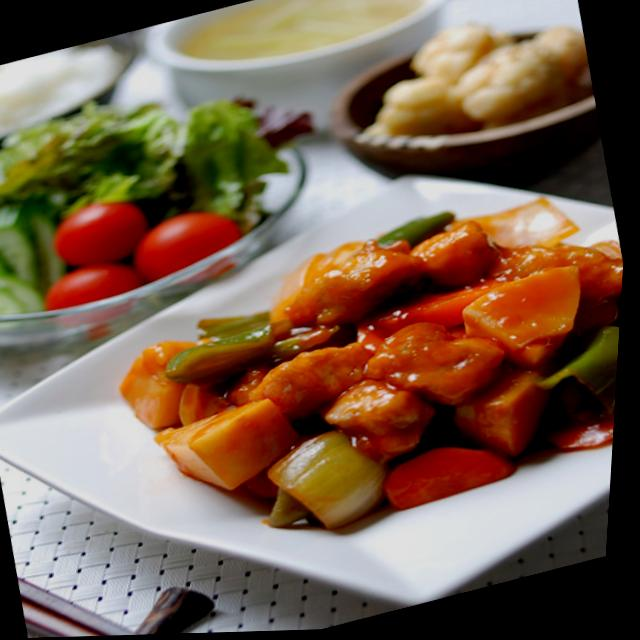汤锅炖物: (148, 0, 469, 96)
猪肉菜式: (97, 171, 631, 579)
米饭主食: (0, 30, 151, 151)
蔬菜料理: (0, 65, 341, 342)
